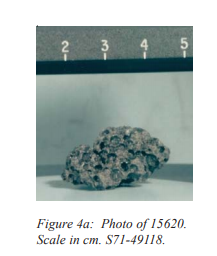Basalt: (36, 109, 186, 193)
